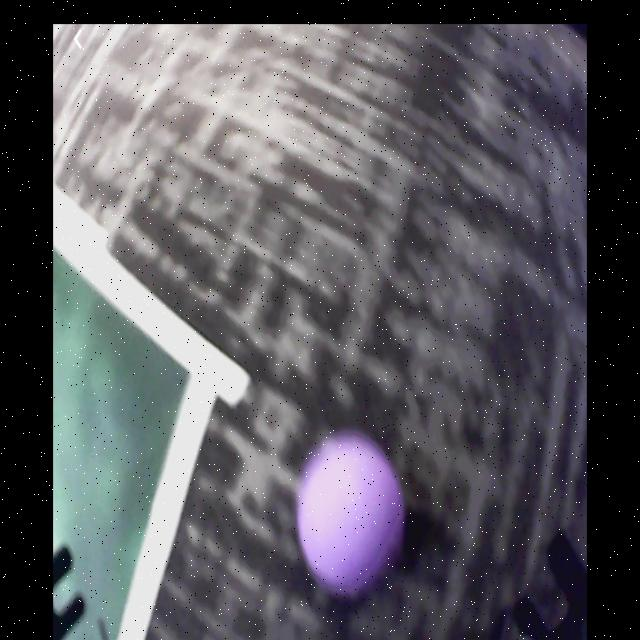ball: (297, 434, 404, 591)
